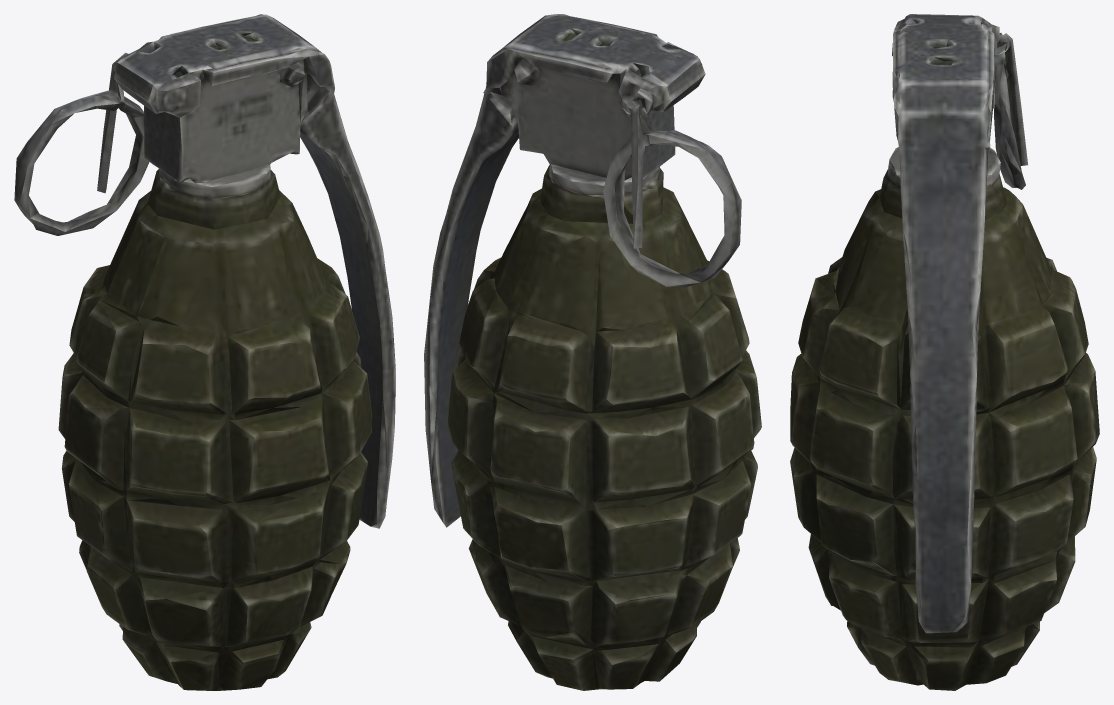
Rendered from mk2_frag.glb.
3 renders of one model, left to right at view 1: azimuth 30°, elevation 25°; view 2: azimuth 150°, elevation 25°; view 3: azimuth 270°, elevation 25°, orthographic.
Parts seen in each view (by area): view 1: model; view 2: model; view 3: model.
Part boxes in pixels (x1=…): model: x1=14, y1=14, x2=395, y2=690; model: x1=424, y1=14, x2=761, y2=690; model: x1=790, y1=14, x2=1099, y2=690.
Size of the model in its own units: 0.0618 by 0.11 by 0.0497.
Materials: 1 (1 with a texture image).
